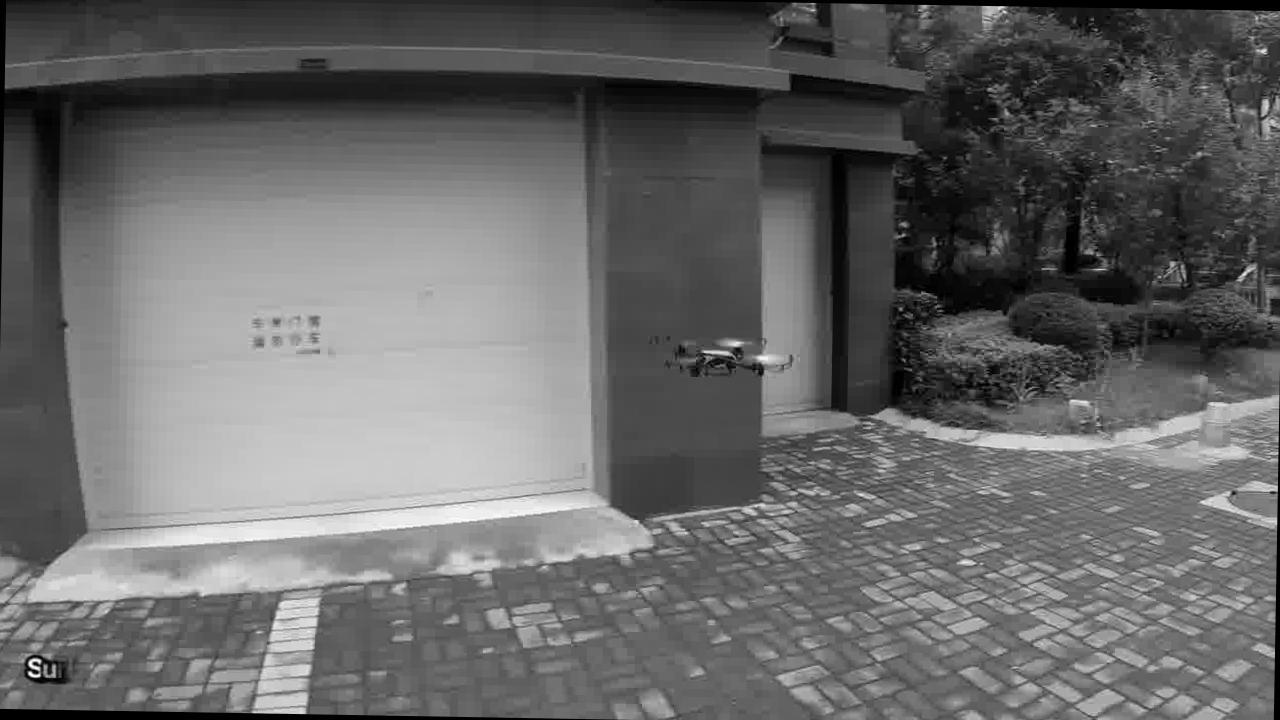drone: (650, 317, 794, 391)
